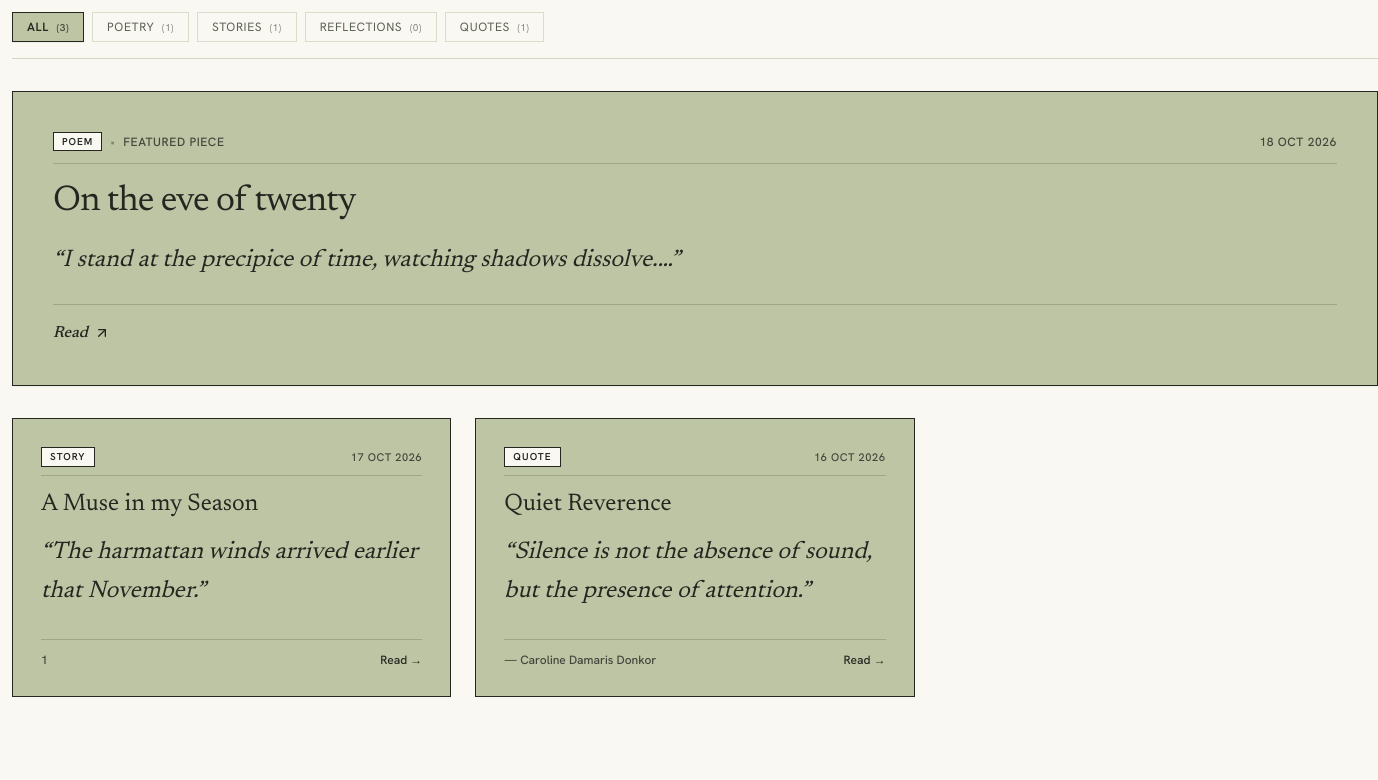
Test: RecentWritingShowcase (Pinterest-inspired Literary Showcase) › displays empty state message when a genre has no posts
The image size is (1378, 780).
Click the tab "Reflections (0)": coordinates (371, 27) [305, 12, 437, 42]
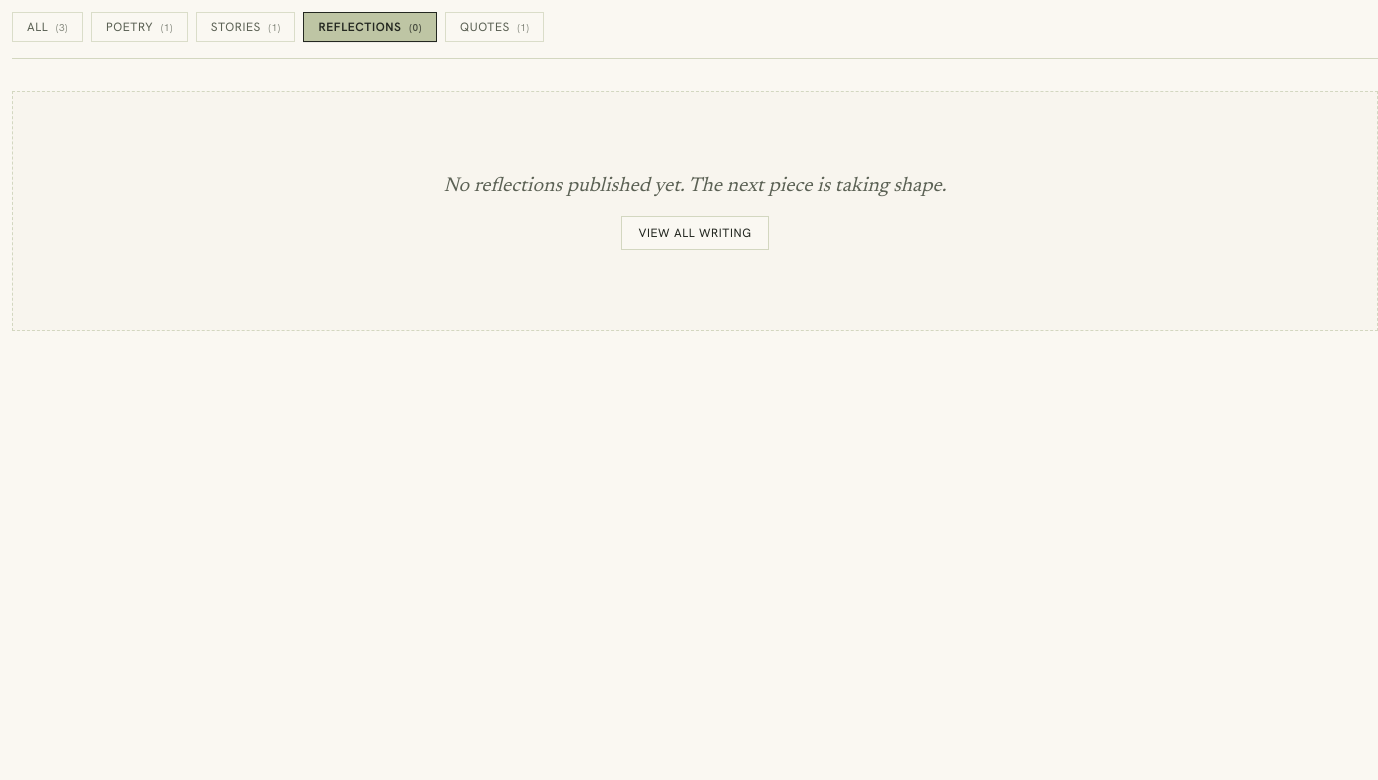
Result: the text "No reflections published yet" is shown at [444, 176, 946, 196]
